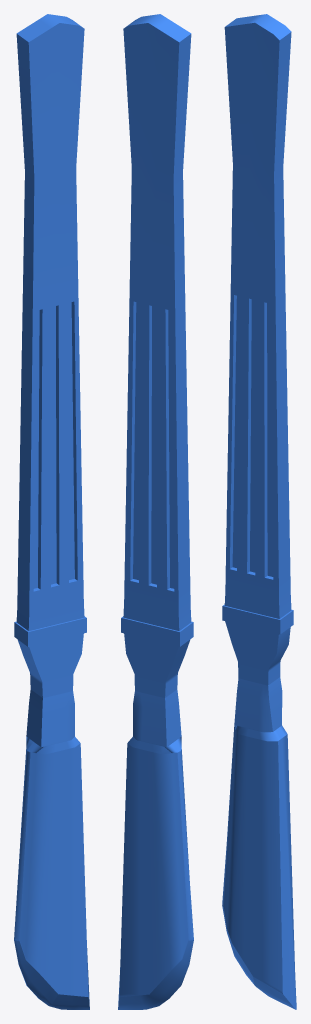
File: Scalpel.fbx
3 views of the same model, side by side, from view 1: azimuth 30°, elevation 25°; view 2: azimuth 150°, elevation 25°; view 3: azimuth 330°, elevation 25° (orthographic).
Visible parts, largest first — view 1: coltello_low; view 2: coltello_low; view 3: coltello_low.
Part boxes in pixels (<box>): coltello_low: <box>14,14,89,1009</box>; coltello_low: <box>118,14,193,1009</box>; coltello_low: <box>222,14,296,1009</box>.
Bounding box in the file's own units: 0.264 × 3.34 × 0.0939.
